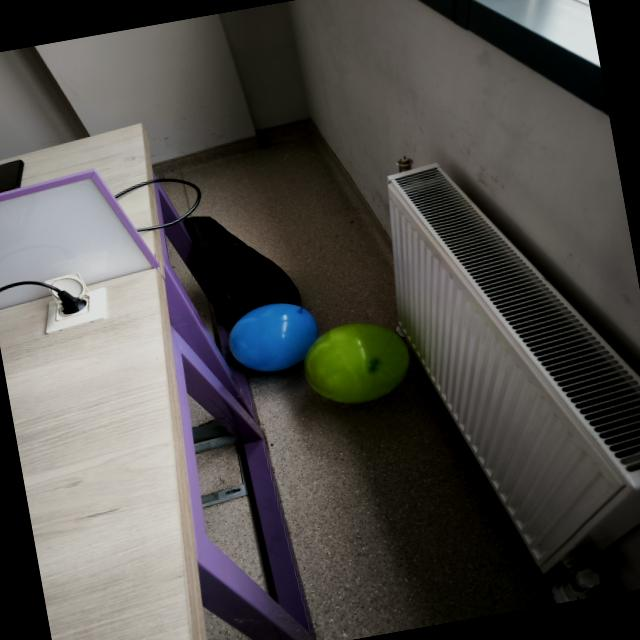balloon: (304, 323, 409, 402), (229, 303, 318, 371)
